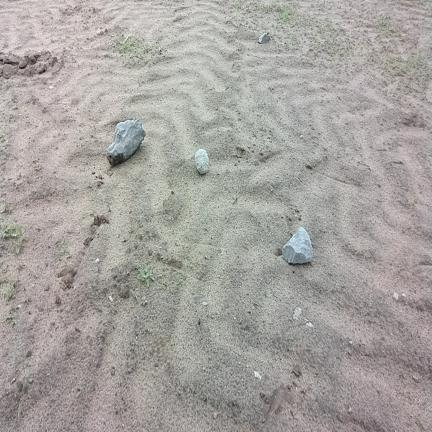Rock: (107, 120, 145, 166), (282, 228, 312, 263), (195, 149, 209, 174), (259, 33, 270, 43)
